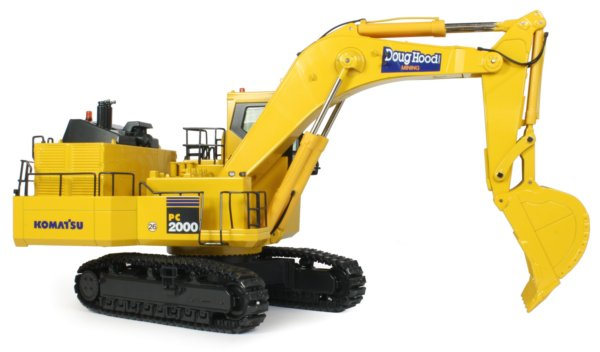backhoe: (11, 4, 568, 338)
